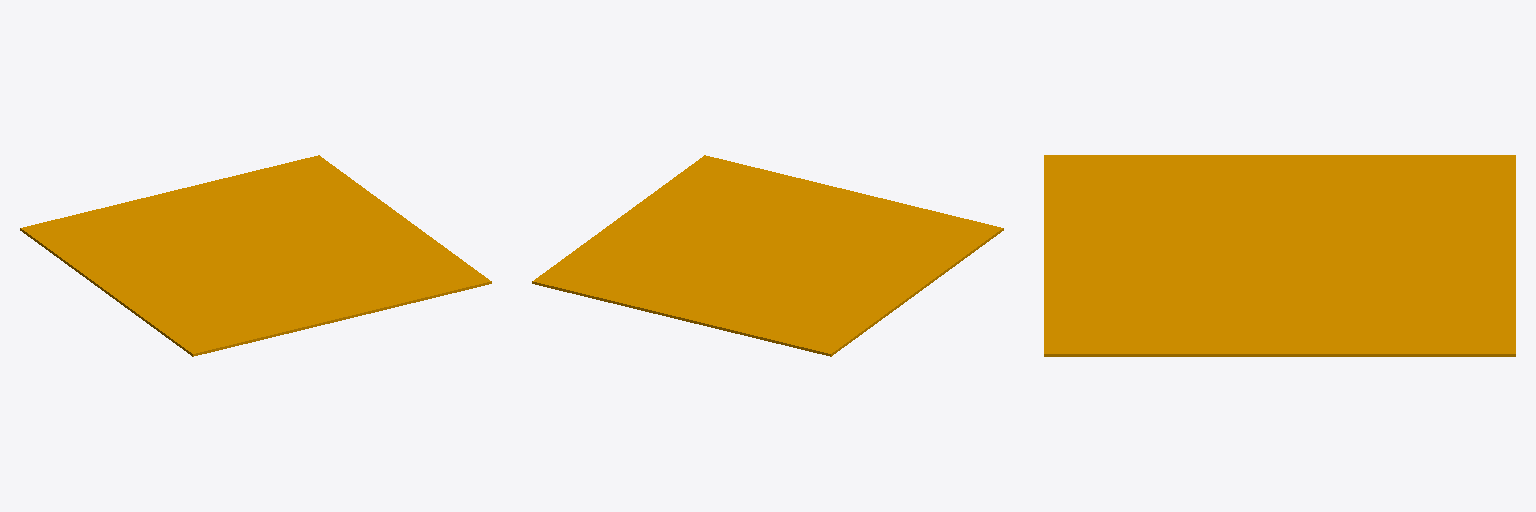
URDF robot description (base_tag):
<?xml version="1.0"?>
<robot name="base_tag">
    <link name="base_tag">
        <visual>
            <geometry>
                <mesh filename="../mesh/base_tag.obj" scale="1 1 1"/>
            </geometry>
        </visual>
    </link>
</robot>

--- What the picture shows (computed from the rendered views, not written in the file) ---
3 views of the same robot in one strip: view 1: azimuth 30°, elevation 25°; view 2: azimuth 150°, elevation 25°; view 3: azimuth 270°, elevation 25° (orthographic).
Model base_tag with 1 links and 0 joints (none), rooted at base_tag, posed all joints at 0.
Visible links, largest first — view 1: base_tag; view 2: base_tag; view 3: base_tag.
Boxes of the visible links, x1,y1,x2,y2 form: base_tag: [20, 155, 491, 356]; base_tag: [532, 155, 1003, 356]; base_tag: [1044, 155, 1515, 356].
Size in the robot's own frame: 0.12 by 0.12 by 0.001 metres.
1 mesh visuals loaded from 1 distinct referenced files (1 OBJ).